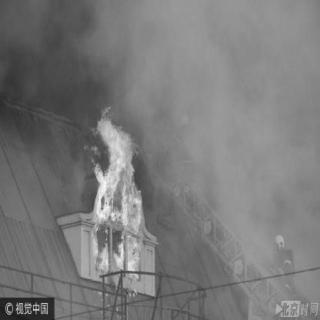Fire: (80, 105, 144, 288)
Smoke: (182, 32, 266, 230), (67, 10, 181, 106)
